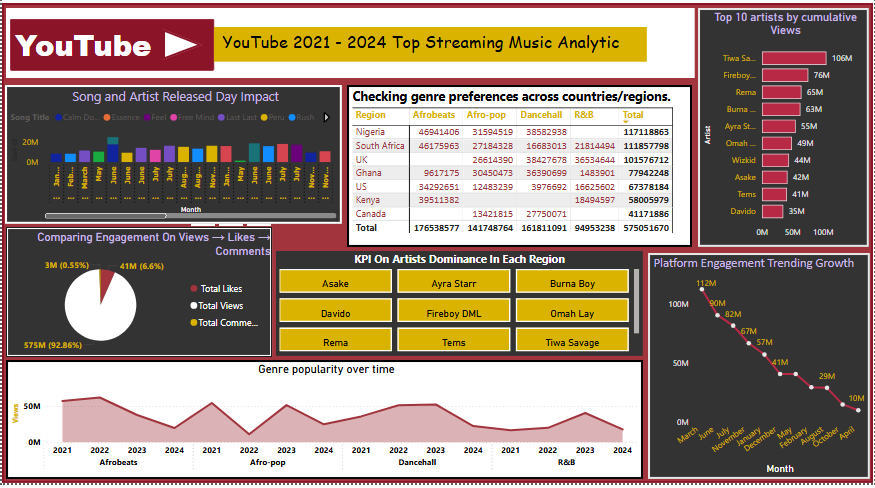

This screenshot's page, from the dashboard's own definition file:
{"tool":"powerbi","page":{"name":"Youtube Music","canvas":[1280,720],"ordinal":0},"visuals":[{"type":"shape","box":[0,14.7,1279.8,705.3],"z":0},{"type":"shape","box":[5.9,22,1012.4,102.9],"z":1000},{"type":"textbox","box":[11.8,38.2,299.8,76.4],"z":2000},{"type":"shape","box":[236.6,52.9,58.8,45.6],"z":3000},{"type":"textbox","box":[311.5,50,636.2,51.4],"z":4000},{"type":"lineChart","title":"Platform Engagement Trending Growth","fields":{"Category":["youtube music streams.Month"],"Y":["Sum(youtube music streams.Views)"]},"box":[949.2,382,326.2,332.1],"z":5000},{"type":"clusteredBarChart","title":"Top 10 artists by cumulative Views","fields":{"Category":["youtube music streams.Artist"],"Y":["Sum(youtube music streams.Views)"]},"box":[1022.7,22,251.3,351.2],"z":6000},{"type":"areaChart","title":"Genre popularity over time","fields":{"Category":["youtube music streams.Genre","youtube music streams.Year"],"Y":["Sum(youtube music streams.Views)"]},"box":[5.9,539.3,936,174.9],"z":7000},{"type":"pieChart","title":"Comparing Engagement  On Views → Likes → Comments","fields":{"Y":["Sum(youtube music streams.Likes)","Sum(youtube music streams.Views)","Sum(youtube music streams.Comments)"]},"box":[5.9,343.8,390.9,191],"z":8000},{"type":"pivotTable","title":"Checking genre preferences across countries/regions.","fields":{"Rows":["youtube music streams.Region"],"Columns":["youtube music streams.Genre"],"Values":["Sum(youtube music streams.Views)"]},"box":[506.9,135.2,506.9,238],"z":9000},{"type":"advancedSlicerVisual","title":"KPI On Artists Dominance In Each Region","fields":{"Values":["youtube music streams.Artist"]},"box":[402.6,379.1,539.3,154.3],"z":10000},{"type":"columnChart","title":"Song and Artist Released Day Impact","fields":{"Y":["Sum(youtube music streams.Views)"],"Category":["youtube music streams.Song Title","youtube music streams.Release Date.Variation.Date Hierarchy.Year","youtube music streams.Release Date.Variation.Date Hierarchy.Month"]},"box":[4.4,135.2,495.2,204.2],"z":11000}]}

Visuals, with their boxes in screenshot pixels (x1, y1, x2, y2), scaled from the page's 1280x720 canvas onto the 875x488 screenshot:
shape: [x1=0, y1=10, x2=874, y2=487]
shape: [x1=4, y1=15, x2=696, y2=85]
textbox: [x1=8, y1=26, x2=213, y2=78]
shape: [x1=162, y1=36, x2=202, y2=67]
textbox: [x1=213, y1=34, x2=648, y2=69]
"Platform Engagement Trending Growth" lineChart: [x1=649, y1=259, x2=872, y2=484]
"Top 10 artists by cumulative Views" clusteredBarChart: [x1=699, y1=15, x2=871, y2=253]
"Genre popularity over time" areaChart: [x1=4, y1=366, x2=644, y2=484]
"Comparing Engagement  On Views → Likes → Comments" pieChart: [x1=4, y1=233, x2=271, y2=362]
"Checking genre preferences across countries/regions." pivotTable: [x1=347, y1=92, x2=693, y2=253]
"KPI On Artists Dominance In Each Region" advancedSlicerVisual: [x1=275, y1=257, x2=644, y2=362]
"Song and Artist Released Day Impact" columnChart: [x1=3, y1=92, x2=342, y2=230]
